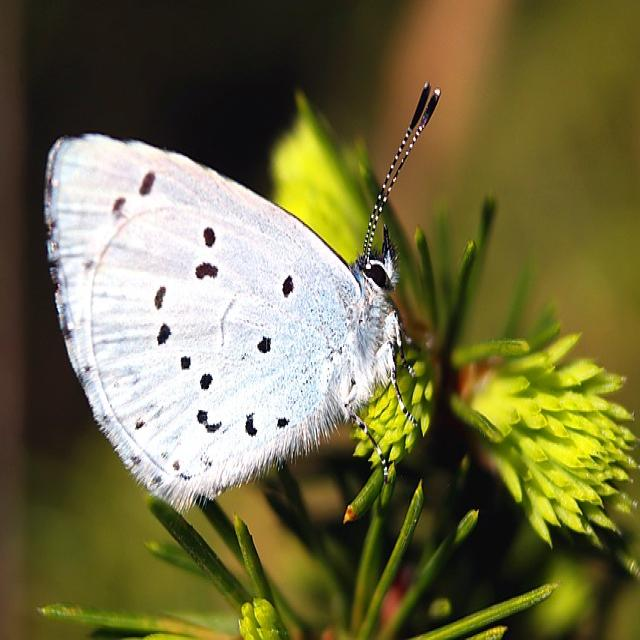butterfly: (44, 134, 402, 515)
